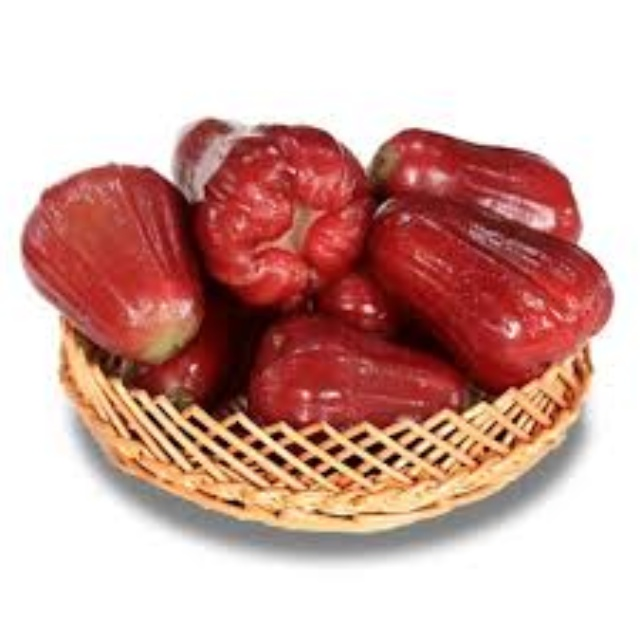xoai: (364, 187, 613, 374), (158, 100, 361, 306), (12, 163, 211, 370), (371, 119, 587, 237), (245, 310, 462, 424)
